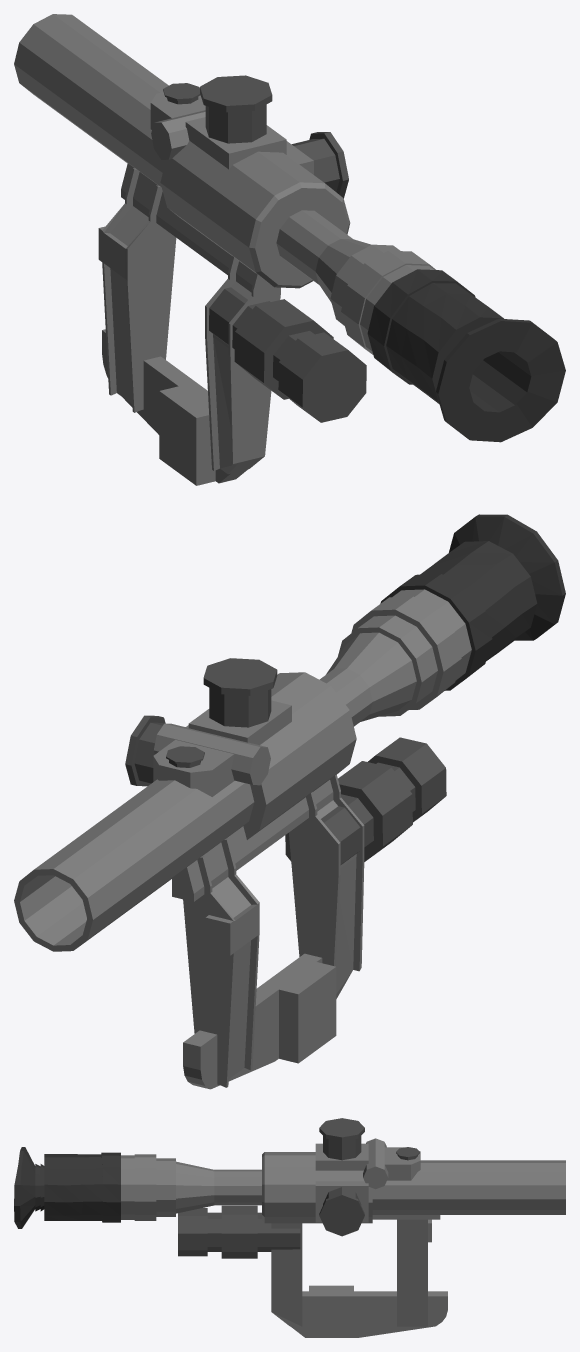
File: PSO-1.fbx
3 views of the same model, one above another, from view 1: azimuth 30°, elevation 25°; view 2: azimuth 150°, elevation 25°; view 3: azimuth 270°, elevation 25° (orthographic). The views are drawn at different scales.
Visible parts, largest first — view 1: PSO_1; view 2: PSO_1; view 3: PSO_1.
Part boxes in pixels (x1,y1,x2,y2): PSO_1: (14, 14, 565, 485); PSO_1: (14, 514, 565, 1089); PSO_1: (14, 1118, 565, 1337).
Size of the model in its own units: 5.91 by 12.27 by 28.01.
Materials: 1 (1 with a texture image).
